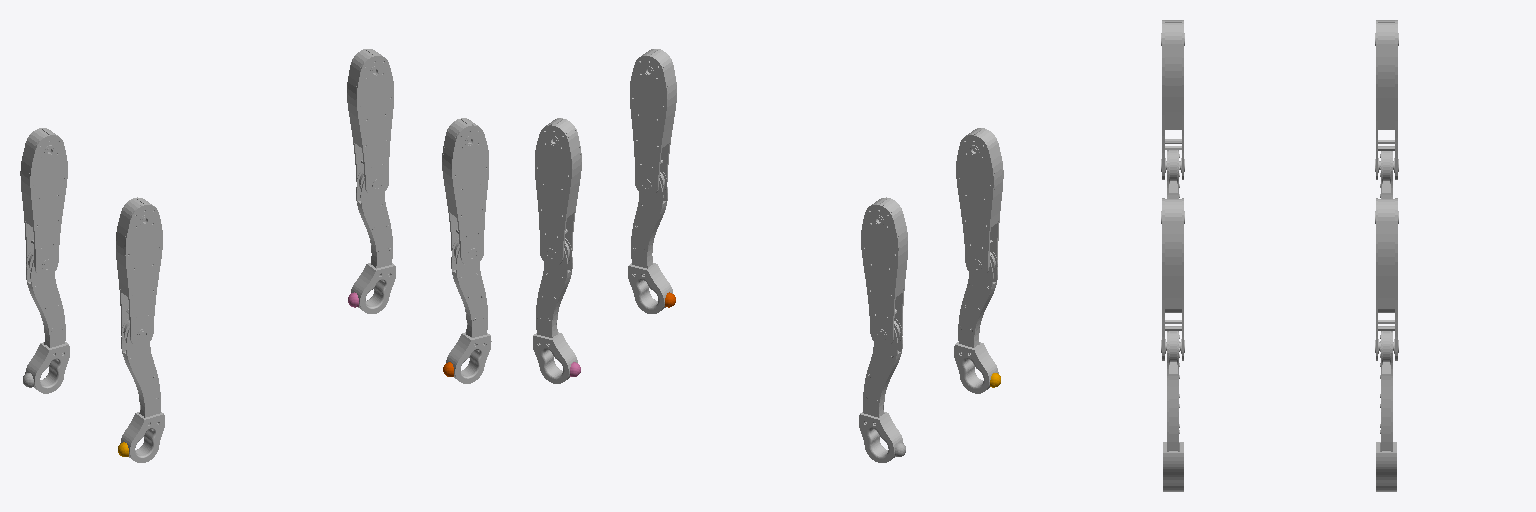
--- What the picture shows (computed from the rendered views, not written in the file) ---
The picture shows the robot from 3 angles, left to right: view 1: azimuth 30°, elevation 25°; view 2: azimuth 150°, elevation 25°; view 3: azimuth 270°, elevation 25°; orthographic projection.
Robot: svan_urdf_package — 17 links, 16 joints (12 revolute, 4 fixed); root link base_link; default pose: every joint at zero.
Visible links, largest first — view 1: rl_hip_l, rr_hip_l, fl_hip_l, fr_hip_l, fl_knee_a, fr_knee_l, rr_knee_l, rl_knee_l; view 2: rr_hip_l, rl_hip_l, fr_hip_l, fl_hip_l, fr_knee_l, fl_knee_a, rl_knee_l, rr_knee_l; view 3: fr_hip_l, fl_hip_l, rr_hip_l, rl_hip_l, fr_knee_l, fl_knee_a, rr_knee_l, rl_knee_l.
Link boxes in pixels (x1,y1,x2,y2): rl_hip_l: (20, 128, 67, 276); rr_hip_l: (116, 197, 162, 346); fl_hip_l: (347, 49, 393, 196); fr_hip_l: (442, 118, 488, 265); fl_knee_a: (351, 169, 395, 313); fr_knee_l: (446, 238, 491, 383); rr_knee_l: (120, 319, 164, 462); rl_knee_l: (25, 249, 69, 393); rr_hip_l: (956, 128, 1003, 276); rl_hip_l: (861, 197, 907, 346); fr_hip_l: (630, 49, 676, 196); fl_hip_l: (535, 118, 581, 265); fr_knee_l: (628, 169, 672, 313); fl_knee_a: (533, 238, 577, 383); rl_knee_l: (859, 318, 903, 462); rr_knee_l: (954, 249, 998, 393); fr_hip_l: (1161, 198, 1184, 360); fl_hip_l: (1375, 198, 1398, 360); rr_hip_l: (1161, 20, 1184, 179); rl_hip_l: (1375, 20, 1398, 179); fr_knee_l: (1163, 331, 1183, 491); fl_knee_a: (1376, 331, 1396, 491); rr_knee_l: (1165, 150, 1181, 312); rl_knee_l: (1378, 151, 1394, 312).
Size in the robot's own frame: 0.5597 by 0.2785 by 0.375 metres.
Meshes: 13 distinct files referenced, 8 mesh visuals loaded (8 binary STL); not drawn: 5 (reference not matched to a file when rendering).

robot.urdf — svan_urdf_package:
<?xml version="1.0" encoding="utf-8"?>
<!-- This URDF was automatically created by SolidWorks to URDF Exporter! Originally created by Stephen Brawner ([email redacted]) 
     Commit Version: 1.6.0-4-g7f85cfe  Build Version: 1.6.7995.38578
     For more information, please see http://wiki.ros.org/sw_urdf_exporter -->
<robot
  name="svan_urdf_package">
  <!-- <link name="world" />
  <joint name="world_joint" type="fixed">
      <origin xyz="0 0 0.5" />
      <parent link="world" />
      <child link="base_link" />
      <limit lower="0" upper="0" effort="1000" velocity="0" />
  </joint> -->
  <link
    name="base_link">
    <inertial>
      <origin
        xyz="-0.000736126189085237 -1.72251877519347E-05 9.8768329506848E-05"
        rpy="0 0 0" />
      <mass
        value="2.99710872609609" />
      <inertia
        ixx="0.00437980864562948"
        ixy="-3.84604566302649E-08"
        ixz="-6.89975946715173E-08"
        iyy="0.0107359870662536"
        iyz="4.61648347490341E-07"
        izz="0.0128759281709884" />
    </inertial>
    <visual>
      <origin
        xyz="0 0 0"
        rpy="0 0 0" />
      <geometry>
        <mesh
          filename="package://svan_urdf_package/meshes/torso_link.STL" />
      </geometry>
      <material
        name="">
        <color
          rgba="0.752941176470588 0.752941176470588 0.752941176470588 1" />
      </material>
    </visual>
    <collision>
      <origin
        xyz="0 0 0"
        rpy="0 0 0" />
      <geometry>
        <mesh
          filename="package://svan_urdf_package/meshes/torso_link.STL" />
      </geometry>
    </collision>
  </link>
  <link
    name="fr_abd_l">
    <inertial>
      <origin
        xyz="0.0431354666865266 -0.0619037967425595 -1.28783333823018E-05"
        rpy="0 0 0" />
      <mass
        value="0.547089526327116" />
      <inertia
        ixx="0.000195963974362415"
        ixy="6.55731584977151E-06"
        ixz="8.03607942102591E-10"
        iyy="0.000300416287485921"
        iyz="-1.87450618305707E-08"
        izz="0.000205685414875868" />
    </inertial>
    <visual>
      <origin
        xyz="0 0 0"
        rpy="0 0 0" />
      <geometry>
        <mesh
          filename="package://svan_urdf_package/meshes/fr_abd_l.STL" />
      </geometry>
      <material
        name="">
        <color
          rgba="0.752941176470588 0.752941176470588 0.752941176470588 1" />
      </material>
    </visual>
    <collision>
      <origin
        xyz="0 0 0"
        rpy="0 0 0" />
      <geometry>
        <mesh
          filename="package://svan_urdf_package/meshes/fr_abd_l.STL" />
      </geometry>
    </collision>
  </link>
  <joint
    name="fr_abd_j"
    type="revolute">
    <origin
      xyz="0.20368 -0.06 0"
      rpy="0 0 0" />
    <parent
      link="base_link" />
    <child
      link="fr_abd_l" />
    <axis
      xyz="-1 0 0" />
    <limit
      lower="-3"
      upper="3"
      effort="100"
      velocity="100" />
  </joint>
  <link
    name="fr_hip_l">
    <inertial>
      <origin
        xyz="0.00165916788705489 0.00999999412640479 -0.0713157899491978"
        rpy="0 0 0" />
      <mass
        value="0.147108571121328" />
      <inertia
        ixx="0.000309578662803665"
        ixy="3.78430545648715E-11"
        ixz="6.9914225906236E-06"
        iyy="0.000329310052837933"
        iyz="6.78580350895923E-11"
        izz="2.13859904286806E-05" />
    </inertial>
    <visual>
      <origin
        xyz="0 0 0"
        rpy="0 0 0" />
      <geometry>
        <mesh
          filename="package://svan_urdf_package/meshes/fr_hip_l.STL" />
      </geometry>
      <material
        name="">
        <color
          rgba="0.752941176470588 0.752941176470588 0.752941176470588 1" />
      </material>
    </visual>
    <collision>
      <origin
        xyz="0 0 0"
        rpy="0 0 0" />
      <geometry>
        <mesh
          filename="package://svan_urdf_package/meshes/fr_hip_l.STL" />
      </geometry>
    </collision>
  </link>
  <joint
    name="fr_hip_j"
    type="revolute">
    <origin
      xyz="0.043 -0.07525 0"
      rpy="0 0 0" />
    <parent
      link="fr_abd_l" />
    <child
      link="fr_hip_l" />
    <axis
      xyz="0 1 0" />
    <limit
      lower="-3"
      upper="3"
      effort="100"
      velocity="100" />
  </joint>
  <link
    name="fr_knee_l">
    <inertial>
      <origin
        xyz="0.00288556341815482 1.5445513158463E-06 -0.0756253134355262"
        rpy="0 0 0" />
      <mass
        value="0.122422228142348" />
      <inertia
        ixx="9.45801447821519E-05"
        ixy="-2.61144960906036E-09"
        ixz="6.78248943065743E-06"
        iyy="0.00011005271843826"
        iyz="-5.2727542858242E-09"
        izz="2.0670821626861E-05" />
    </inertial>
    <visual>
      <origin
        xyz="0 0 0"
        rpy="0 0 0" />
      <geometry>
        <mesh
          filename="package://svan_urdf_package/meshes/fr_knee_l.STL" />
      </geometry>
      <material
        name="">
        <color
          rgba="0.752941176470588 0.752941176470588 0.752941176470588 1" />
      </material>
    </visual>
    <collision>
      <origin
        xyz="0 0 0"
        rpy="0 0 0" />
      <geometry>
        <mesh
          filename="package://svan_urdf_package/meshes/fr_knee_l.STL" />
      </geometry>
    </collision>
  </link>
  <joint
    name="fr_knee_j"
    type="revolute">
    <origin
      xyz="0.0041389 0.01 -0.16494"
      rpy="0 0 0" />
    <parent
      link="fr_hip_l" />
    <child
      link="fr_knee_l" />
    <axis
      xyz="0 1 0" />
    <limit
      lower="-3"
      upper="3"
      effort="100"
      velocity="100" />
  </joint>
  <!-- <link
    name="fr_dummy_l">
    <inertial>
      <origin
        xyz="0.00149999142621271 3.05311331771918E-15 5.0716157441455E-06"
        rpy="0 0 0" />
      <mass
        value="9.42477796076937E-06" />
      <inertia
        ixx="4.71244285092067E-12"
        ixy="-3.43878520170761E-27"
        ixz="-1.59328596951608E-14"
        iyy="9.42477796076933E-12"
        iyz="-2.01948391735052E-28"
        izz="9.42472409023335E-12" />
    </inertial>
    <visual>
      <origin
        xyz="0 0 0"
        rpy="0 0 0" />
      <geometry>
        <mesh
          filename="package://svan_urdf_package/meshes/fr_dummy_l.STL" />
      </geometry>
      <material
        name="">
        <color
          rgba="0.792156862745098 0.819607843137255 0.933333333333333 1" />
      </material>
    </visual>
    <collision>
      <origin
        xyz="0 0 0"
        rpy="0 0 0" />
      <geometry>
        <mesh
          filename="package://svan_urdf_package/meshes/fr_dummy_l.STL" />
      </geometry>
    </collision>
  </link> -->
  <joint
    name="fr_dummy_j"
    type="fixed">
    <origin
      xyz="-0.026457 0 -0.16693"
      rpy="0 0 0" />
    <parent
      link="fr_knee_l" />
    <child
      link="foot_FR" />
    <!-- <limit lower="0" upper="0" effort="0" velocity="0" /> -->
    <axis
      xyz="0 0 0" />
  </joint>
  <link
    name="fl_abd_l">
    <inertial>
      <origin
        xyz="0.0431354666865253 0.0619037967425567 1.28783333771046E-05"
        rpy="0 0 0" />
      <mass
        value="0.547089526327068" />
      <inertia
        ixx="0.000195963974362192"
        ixy="-6.55731584978387E-06"
        ixz="-8.03607962880309E-10"
        iyy="0.000300416287485723"
        iyz="-1.87450617909673E-08"
        izz="0.000205685414875836" />
    </inertial>
    <visual>
      <origin
        xyz="0 0 0"
        rpy="0 0 0" />
      <geometry>
        <mesh
          filename="package://svan_urdf_package/meshes/fl_abd_l.STL" />
      </geometry>
      <material
        name="">
        <color
          rgba="0.752941176470588 0.752941176470588 0.752941176470588 1" />
      </material>
    </visual>
    <collision>
      <origin
        xyz="0 0 0"
        rpy="0 0 0" />
      <geometry>
        <mesh
          filename="package://svan_urdf_package/meshes/fl_abd_l.STL" />
      </geometry>
    </collision>
  </link>
  <joint
    name="fl_abd_j"
    type="revolute">
    <origin
      xyz="0.20368 0.06 0"
      rpy="0 0 0" />
    <parent
      link="base_link" />
    <child
      link="fl_abd_l" />
    <axis
      xyz="-1 0 0" />
    <limit
      lower="-3"
      upper="3"
      effort="100"
      velocity="100" />
  </joint>
  <link
    name="fl_hip_l">
    <inertial>
      <origin
        xyz="0.0016591678870552 -0.0100000058735955 -0.0713157899491955"
        rpy="0 0 0" />
      <mass
        value="0.147108571121327" />
      <inertia
        ixx="0.000309578662803818"
        ixy="3.78430545549379E-11"
        ixz="6.99142259045296E-06"
        iyy="0.000329310052838139"
        iyz="6.78580349989196E-11"
        izz="2.13859904287332E-05" />
    </inertial>
    <visual>
      <origin
        xyz="0 0 0"
        rpy="0 0 0" />
      <geometry>
        <mesh
          filename="package://svan_urdf_package/meshes/fl_hip_l.STL" />
      </geometry>
      <material
        name="">
        <color
          rgba="0.752941176470588 0.752941176470588 0.752941176470588 1" />
      </material>
    </visual>
    <collision>
      <origin
        xyz="0 0 0"
        rpy="0 0 0" />
      <geometry>
        <mesh
          filename="package://svan_urdf_package/meshes/fl_hip_l.STL" />
      </geometry>
    </collision>
  </link>
  <joint
    name="fl_hip_j"
    type="revolute">
    <origin
      xyz="0.043 0.07525 0"
      rpy="0 0 0" />
    <parent
      link="fl_abd_l" />
    <child
      link="fl_hip_l" />
    <axis
      xyz="0 1 0" />
    <limit
      lower="-3"
      upper="3"
      effort="100"
      velocity="100" />
  </joint>
  <link
    name="fl_knee_a">
    <inertial>
      <origin
        xyz="0.00288556341815421 1.54455131551323E-06 -0.0756253134355257"
        rpy="0 0 0" />
      <mass
        value="0.122422228142348" />
      <inertia
        ixx="9.45801447821233E-05"
        ixy="-2.61144960908792E-09"
        ixz="6.78248943063961E-06"
        iyy="0.000110052718438119"
        iyz="-5.27275428583716E-09"
        izz="2.0670821626749E-05" />
    </inertial>
    <visual>
      <origin
        xyz="0 0 0"
        rpy="0 0 0" />
      <geometry>
        <mesh
          filename="package://svan_urdf_package/meshes/fl_knee_a.STL" />
      </geometry>
      <material
        name="">
        <color
          rgba="0.752941176470588 0.752941176470588 0.752941176470588 1" />
      </material>
    </visual>
    <collision>
      <origin
        xyz="0 0 0"
        rpy="0 0 0" />
      <geometry>
        <mesh
          filename="package://svan_urdf_package/meshes/fl_knee_a.STL" />
      </geometry>
    </collision>
  </link>
  <joint
    name="fl_knee_j"
    type="revolute">
    <origin
      xyz="0.0041389 -0.01 -0.16494"
      rpy="0 0 0" />
    <parent
      link="fl_hip_l" />
    <child
      link="fl_knee_a" />
    <axis
      xyz="0 1 0" />
    <limit
      lower="-3"
      upper="3"
      effort="100"
      velocity="100" />
  </joint>
  <!-- <link
    name="fl_dummy_l">
    <inertial>
      <origin
        xyz="0.0014999914262166 2.55351295663786E-15 5.07161574681003E-06"
        rpy="0 0 0" />
      <mass
        value="9.42477796076937E-06" />
      <inertia
        ixx="4.71244285092067E-12"
        ixy="-1.7027390075873E-27"
        ixz="-1.59328596951634E-14"
        iyy="9.42477796076932E-12"
        iyz="-4.41762106934845E-29"
        izz="9.42472409023335E-12" />
    </inertial>
    <visual>
      <origin
        xyz="0 0 0"
        rpy="0 0 0" />
      <geometry>
        <mesh
          filename="package://svan_urdf_package/meshes/fl_dummy_l.STL" />
      </geometry>
      <material
        name="">
        <color
          rgba="0.792156862745098 0.819607843137255 0.933333333333333 1" />
      </material>
    </visual>
    <collision>
      <origin
        xyz="0 0 0"
        rpy="0 0 0" />
      <geometry>
        <mesh
          filename="package://svan_urdf_package/meshes/fl_dummy_l.STL" />
      </geometry>
    </collision>
  </link> -->
  <joint
    name="fl_dummy_j"
    type="fixed">
    <origin
      xyz="-0.026618 0 -0.16693"
      rpy="0 0 0" />
    <parent
      link="fl_knee_a" />
    <child
      link="foot_FL" />
    <axis
      xyz="0 0 0" />
    <!-- <limit lower="0" upper="0" effort="1000" velocity="0" /> -->
  </joint>
  <link
    name="rr_abd_l">
    <inertial>
      <origin
        xyz="-0.0408339071979818 -0.0619037967425603 0.000179250427446827"
        rpy="0 0 0" />
      <mass
        value="0.547089526327114" />
      <inertia
        ixx="0.000195963974362413"
        ixy="-6.63504112736179E-06"
        ixz="8.03607941529097E-10"
        iyy="0.000300416287485919"
        iyz="6.06375583261325E-10"
        izz="0.000205685414875867" />
    </inertial>
    <visual>
      <origin
        xyz="0 0 0"
        rpy="0 0 0" />
      <geometry>
        <mesh
          filename="package://svan_urdf_package/meshes/rr_abd_l.STL" />
      </geometry>
      <material
        name="">
        <color
          rgba="0.752941176470588 0.752941176470588 0.752941176470588 1" />
      </material>
    </visual>
    <collision>
      <origin
        xyz="0 0 0"
        rpy="0 0 0" />
      <geometry>
        <mesh
          filename="package://svan_urdf_package/meshes/rr_abd_l.STL" />
      </geometry>
    </collision>
  </link>
  <joint
    name="rr_abd_j"
    type="revolute">
    <origin
      xyz="-0.20482 -0.06 0"
      rpy="0 0 0" />
    <parent
      link="base_link" />
    <child
      link="rr_abd_l" />
    <axis
      xyz="1 0 0" />
    <limit
      lower="-3"
      upper="3"
      effort="100"
      velocity="100" />
  </joint>
  <link
    name="rr_hip_l">
    <inertial>
      <origin
        xyz="-0.00165916788705478 0.0100000058735978 -0.0713157899491982"
        rpy="0 0 0" />
      <mass
        value="0.147108571121328" />
      <inertia
        ixx="0.000309578662803667"
        ixy="3.78430547339955E-11"
        ixz="-6.99142259061868E-06"
        iyy="0.000329310052837923"
        iyz="-6.78580243498918E-11"
        izz="2.1385990428668E-05" />
    </inertial>
    <visual>
      <origin
        xyz="0 0 0"
        rpy="0 0 0" />
      <geometry>
        <mesh
          filename="package://svan_urdf_package/meshes/rr_hip_l.STL" />
      </geometry>
      <material
        name="">
        <color
          rgba="0.752941176470588 0.752941176470588 0.752941176470588 1" />
      </material>
    </visual>
    <collision>
      <origin
        xyz="0 0 0"
        rpy="0 0 0" />
      <geometry>
        <mesh
          filename="package://svan_urdf_package/meshes/rr_hip_l.STL" />
      </geometry>
    </collision>
  </link>
  <joint
    name="rr_hip_j"
    type="revolute">
    <origin
      xyz="-0.043 -0.07525 0"
      rpy="0 0 0" />
    <parent
      link="rr_abd_l" />
    <child
      link="rr_hip_l" />
    <axis
      xyz="0 -1 0" />
    <limit
      lower="-3"
      upper="3"
      effort="100"
      velocity="100" />
  </joint>
  <link
    name="rr_knee_l">
    <inertial>
      <origin
        xyz="0.00654595759568111 1.5446183047052E-06 -0.0753966327483542"
        rpy="0 0 0" />
      <mass
        value="0.122422246876929" />
      <inertia
        ixx="9.37491120274394E-05"
        ixy="-2.35343019264926E-09"
        ixz="1.03265117822068E-05"
        iyy="0.000110051537971271"
        iyz="-5.39219781160484E-09"
        izz="2.15006699644239E-05" />
    </inertial>
    <visual>
      <origin
        xyz="0 0 0"
        rpy="0 0 0" />
      <geometry>
        <mesh
          filename="package://svan_urdf_package/meshes/rr_knee_l.STL" />
      </geometry>
      <material
        name="">
        <color
          rgba="0.752941176470588 0.752941176470588 0.752941176470588 1" />
      </material>
    </visual>
    <collision>
      <origin
        xyz="0 0 0"
        rpy="0 0 0" />
      <geometry>
        <mesh
          filename="package://svan_urdf_package/meshes/rr_knee_l.STL" />
      </geometry>
    </collision>
  </link>
  <joint
    name="rr_knee_j"
    type="revolute">
    <origin
      xyz="-0.0038618 0.01 -0.16493"
      rpy="0 0 0" />
    <parent
      link="rr_hip_l" />
    <child
      link="rr_knee_l" />
    <axis
      xyz="0 1 0" />
    <limit
      lower="-3"
      upper="3"
      effort="100"
      velocity="100" />
  </joint>
  <!-- <link
    name="rr_dummy_l">
    <inertial>
      <origin
        xyz="0.00149798440726828 3.10862446895044E-15 7.7734905568394E-05"
        rpy="0 0 0" />
      <mass
        value="9.42477796076944E-06" />
      <inertia
        ixx="4.72504481421764E-12"
        ixy="-1.40725882958467E-27"
        ixz="-2.43883254369301E-13"
        iyy="9.42477796076952E-12"
        iyz="-7.74661408927972E-29"
        izz="9.41212212693661E-12" />
    </inertial>
    <visual>
      <origin
        xyz="0 0 0"
        rpy="0 0 0" />
      <geometry>
        <mesh
          filename="package://svan_urdf_package/meshes/rr_dummy_l.STL" />
      </geometry>
      <material
        name="">
        <color
          rgba="0.792156862745098 0.819607843137255 0.933333333333333 1" />
      </material>
    </visual>
    <collision>
      <origin
        xyz="0 0 0"
        rpy="0 0 0" />
      <geometry>
        <mesh
          filename="package://svan_urdf_package/meshes/rr_dummy_l.STL" />
      </geometry>
    </collision>
  </link> -->
  <joint
    name="rr_dummy_j"
    type="fixed">
    <origin
      xyz="-0.018339 0 -0.16802"
      rpy="0 0 0" />
    <parent
      link="rr_knee_l" />
    <child
      link="foot_RR" />
    <!-- <limit lower="0" upper="0" effort="1000" velocity="0" /> -->
    <axis
      xyz="0 0 0" />
  </joint>
  <link
    name="rl_abd_l">
    <inertial>
      <origin
        xyz="-0.0408339071979842 0.0619037967425569 -0.000179250427450348"
        rpy="0 0 0" />
      <mass
        value="0.547089526327067" />
      <inertia
        ixx="0.000195963974362192"
        ixy="6.6350411273486E-06"
        ixz="-8.03607962384451E-10"
        iyy="0.000300416287485722"
        iyz="6.06375623877521E-10"
        izz="0.000205685414875835" />
    </inertial>
    <visual>
      <origin
        xyz="0 0 0"
        rpy="0 0 0" />
      <geometry>
        <mesh
          filename="package://svan_urdf_package/meshes/rl_abd_l.STL" />
      </geometry>
      <material
        name="">
        <color
          rgba="0.752941176470588 0.752941176470588 0.752941176470588 1" />
      </material>
    </visual>
    <collision>
      <origin
        xyz="0 0 0"
        rpy="0 0 0" />
      <geometry>
        <mesh
          filename="package://svan_urdf_package/meshes/rl_abd_l.STL" />
      </geometry>
    </collision>
  </link>
  <joint
    name="rl_abd_j"
    type="revolute">
    <origin
      xyz="-0.20482 0.06 0"
      rpy="0 0 0" />
    <parent
      link="base_link" />
    <child
      link="rl_abd_l" />
    <axis
      xyz="1 0 0" />
    <limit
      lower="-3"
      upper="3"
      effort="100"
      velocity="100" />
  </joint>
  <link
    name="rl_hip_l">
    <inertial>
      <origin
        xyz="-0.00179950691259256 -0.0100000058735954 -0.0713123896470731"
        rpy="0 0 0" />
      <mass
        value="0.147108560926126" />
      <inertia
        ixx="0.000309580559412878"
        ixy="4.14968005699223E-11"
        ixz="-6.9946474189349E-06"
        iyy="0.00032931216560272"
        iyz="6.56222779612308E-11"
        izz="2.13861970709628E-05" />
    </inertial>
    <visual>
      <origin
        xyz="0 0 0"
        rpy="0 0 0" />
      <geometry>
        <mesh
          filename="package://svan_urdf_package/meshes/rl_hip_l.STL" />
      </geometry>
      <material
        name="">
        <color
          rgba="0.752941176470588 0.752941176470588 0.752941176470588 1" />
      </material>
    </visual>
    <collision>
      <origin
        xyz="0 0 0"
        rpy="0 0 0" />
      <geometry>
        <mesh
          filename="package://svan_urdf_package/meshes/rl_hip_l.STL" />
      </geometry>
    </collision>
  </link>
  <joint
    name="rl_hip_j"
    type="revolute">
    <origin
      xyz="-0.043 0.07525 0"
      rpy="0 0 0" />
    <parent
      link="rl_abd_l" />
    <child
      link="rl_hip_l" />
    <axis
      xyz="0 1 0" />
    <limit
      lower="-3"
      upper="3"
      effort="100"
      velocity="100" />
  </joint>
  <link
    name="rl_knee_l">
    <inertial>
      <origin
        xyz="0.00654594639576345 1.54461741741496E-06 -0.0753966803284335"
        rpy="0 0 0" />
      <mass
        value="0.122422317176859" />
      <inertia
        ixx="9.3749108734946E-05"
        ixy="-2.3534371458569E-09"
        ixz="1.03265058974487E-05"
        iyy="0.000110051571045759"
        iyz="-5.39219909611954E-09"
        izz="2.15007107251529E-05" />
    </inertial>
    <visual>
      <origin
        xyz="0 0 0"
        rpy="0 0 0" />
      <geometry>
        <mesh
          filename="package://svan_urdf_package/meshes/rl_knee_l.STL" />
      </geometry>
      <material
        name="">
        <color
          rgba="0.752941176470588 0.752941176470588 0.752941176470588 1" />
      </material>
    </visual>
    <collision>
      <origin
        xyz="0 0 0"
        rpy="0 0 0" />
      <geometry>
        <mesh
          filename="package://svan_urdf_package/meshes/rl_knee_l.STL" />
      </geometry>
    </collision>
  </link>
  <joint
    name="rl_knee_j"
    type="revolute">
    <origin
      xyz="-0.0038618 -0.01 -0.16493"
      rpy="0 0 0" />
    <parent
      link="rl_hip_l" />
    <child
      link="rl_knee_l" />
    <axis
      xyz="0 1 0" />
    <limit
      lower="-3"
      upper="3"
      effort="100"
      velocity="100" />
  </joint>
  <!-- <link
    name="rl_dummy_l">
    <inertial>
      <origin
        xyz="0.0014979844072685 1.99840144432528E-15 7.77349055681165E-05"
        rpy="0 0 0" />
      <mass
        value="9.42477796076945E-06" />
      <inertia
        ixx="4.72504481421764E-12"
        ixy="-2.75052131823419E-27"
        ixz="-2.43883254369304E-13"
        iyy="9.42477796076952E-12"
        iyz="2.68212707776922E-29"
        izz="9.41212212693661E-12" />
    </inertial>
    <visual>
      <origin
        xyz="0 0 0"
        rpy="0 0 0" />
      <geometry>
        <mesh
          filename="package://svan_urdf_package/meshes/rl_dummy_l.STL" />
      </geometry>
      <material
        name="">
        <color
          rgba="0.792156862745098 0.819607843137255 0.933333333333333 1" />
      </material>
    </visual>
    <collision>
      <origin
        xyz="0 0 0"
        rpy="0 0 0" />
      <geometry>
        <mesh
          filename="package://svan_urdf_package/meshes/rl_dummy_l.STL" />
      </geometry>
    </collision>
  </link> -->
  <link name="foot_FR">
    <inertial>
        <origin xyz="0.0014979844072685 1.99840144432528E-15 7.77349055681165E-05"
        rpy="0 0 0" /> 
        <mass value="0.025" />
        <inertia ixx="2e-6" ixy="0" ixz="0" iyy="2e-6" iyz="0" izz="2e-6" />
      </inertial>
      <visual>
        <origin xyz="0 0 0" rpy="0 0 0" />
        <geometry>
          <sphere radius="0.01" />
        </geometry>
      </visual>
      <collision>
        <origin xyz="0 0 0" rpy="0 0 0" />
        <geometry>
          <sphere radius="0.01" />
        </geometry>
      </collision>
  </link>
  <link name="foot_FL">
    <inertial>
        <origin xyz="0.0014979844072685 1.99840144432528E-15 7.77349055681165E-05"
        rpy="0 0 0" /> 
        <mass value="0.025" />
        <inertia ixx="2e-6" ixy="0" ixz="0" iyy="2e-6" iyz="0" izz="2e-6" />
      </inertial>
      <visual>
        <origin xyz="0 0 0" rpy="0 0 0" />
        <geometry>
          <sphere radius="0.01" />
        </geometry>
      </visual>
      <collision>
        <origin xyz="0 0 0" rpy="0 0 0" />
        <geometry>
          <sphere radius="0.01" />
        </geometry>
      </collision>
  </link>
  <link name="foot_RL">
    <inertial>
        <origin xyz="0.0014979844072685 1.99840144432528E-15 7.77349055681165E-05"
        rpy="0 0 0" /> 
        <mass value="0.025" />
        <inertia ixx="2e-6" ixy="0" ixz="0" iyy="2e-6" iyz="0" izz="2e-6" />
      </inertial>
      <visual>
        <origin xyz="0 0 0" rpy="0 0 0" />
        <geometry>
          <sphere radius="0.01" />
        </geometry>
      </visual>
      <collision>
        <origin xyz="0 0 0" rpy="0 0 0" />
        <geometry>
          <sphere radius="0.01" />
        </geometry>
      </collision>
  </link>
  <link name="foot_RR">
    <inertial>
        <origin xyz="0.0014979844072685 1.99840144432528E-15 7.77349055681165E-05"
        rpy="0 0 0" /> 
        <mass value="0.025" />
        <inertia ixx="2e-6" ixy="0" ixz="0" iyy="2e-6" iyz="0" izz="2e-6" />
      </inertial>
      <visual>
        <origin xyz="0 0 0" rpy="0 0 0" />
        <geometry>
          <sphere radius="0.01" />
        </geometry>
      </visual>
      <collision>
        <origin xyz="0 0 0" rpy="0 0 0" />
        <geometry>
          <sphere radius="0.01" />
        </geometry>
      </collision>
  </link>
  <joint
    name="rl_dummy_j"
    type="fixed">
    <origin
      xyz="-0.0185 0 -0.16802"
      rpy="0 0 0" />
    <parent
      link="rl_knee_l" />
    <child
      link="foot_RL" />
    <axis
      xyz="0 0 0" />
    <!-- <limit lower="0" upper="0" effort="1000" velocity="0" /> -->
  </joint>
</robot>
